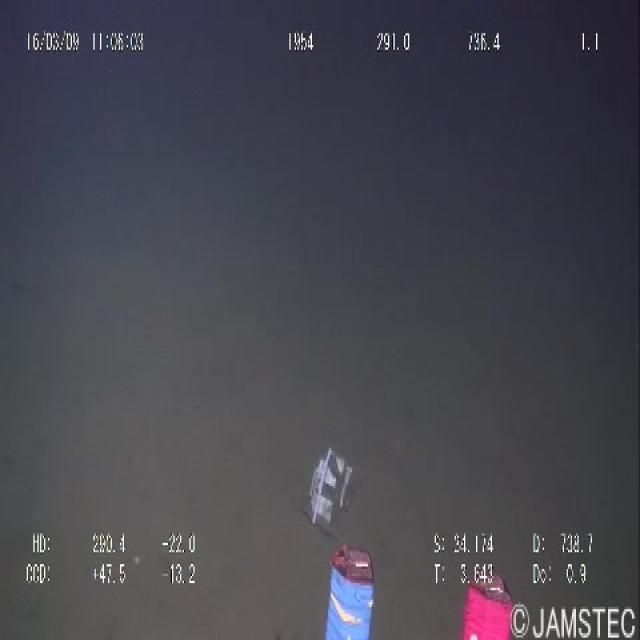plastic: (296, 441, 359, 533)
